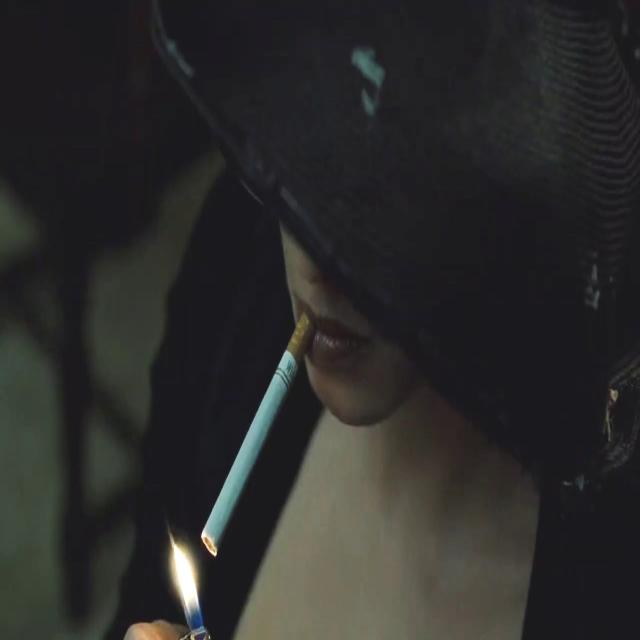Smooking: (191, 306, 320, 594)
